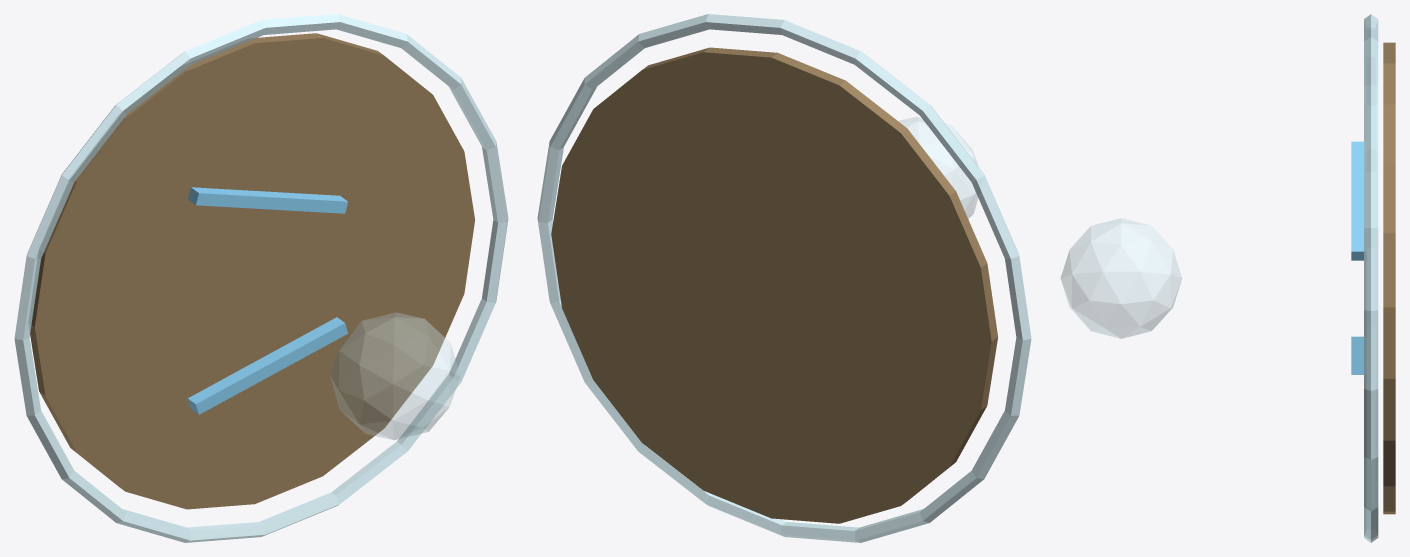
Rendered from 07_weather_terrain_nature_effect.glb.
3 views of the same model, side by side, from view 1: azimuth 30°, elevation 25°; view 2: azimuth 150°, elevation 25°; view 3: azimuth 270°, elevation 25° (orthographic). The views are drawn at different scales.
Parts seen in each view (by area): view 1: terrain_patch, weather_boundary, weather_orb, terrain_marker_a, terrain_marker_b; view 2: terrain_patch, weather_boundary, weather_orb; view 3: weather_orb, weather_boundary, terrain_patch, terrain_marker_b, terrain_marker_a.
Part boxes in pixels (left/top/right/bottom): terrain_patch: left=29, top=33, right=474, bottom=509; weather_boundary: left=14, top=14, right=508, bottom=542; weather_orb: left=330, top=312, right=459, bottom=439; terrain_marker_a: left=188, top=317, right=347, bottom=414; terrain_marker_b: left=188, top=187, right=347, bottom=213; terrain_patch: left=551, top=47, right=997, bottom=523; weather_boundary: left=537, top=14, right=1031, bottom=542; weather_orb: left=898, top=117, right=978, bottom=218; weather_orb: left=1060, top=218, right=1181, bottom=338; weather_boundary: left=1364, top=14, right=1378, bottom=542; terrain_patch: left=1383, top=42, right=1395, bottom=514; terrain_marker_b: left=1351, top=141, right=1365, bottom=260; terrain_marker_a: left=1351, top=336, right=1365, bottom=374.
Size of the model in its own units: 1.75 by 1.75 by 1.1.
